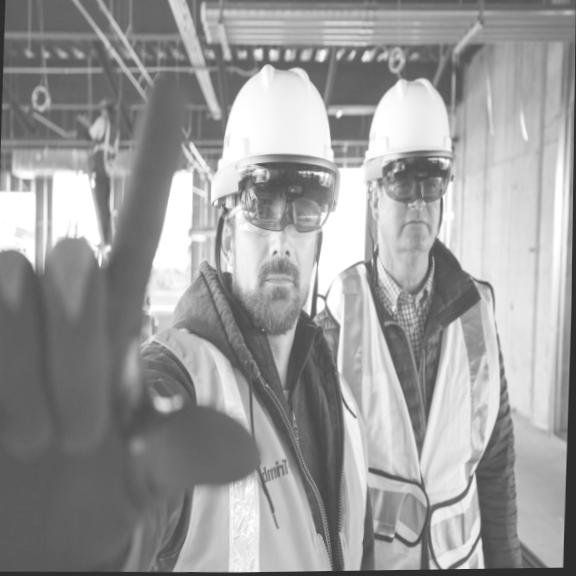safety_vest: (312, 251, 503, 571), (131, 323, 374, 574)
